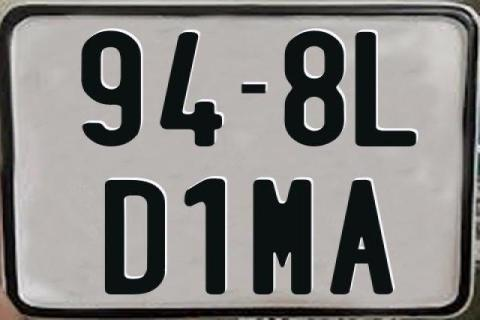0: (284, 30, 345, 150), (160, 30, 222, 146), (80, 29, 140, 145), (183, 178, 226, 296)
A: (329, 180, 397, 294)
D: (104, 180, 166, 297)
L: (352, 32, 417, 146)
M: (251, 180, 315, 299)
